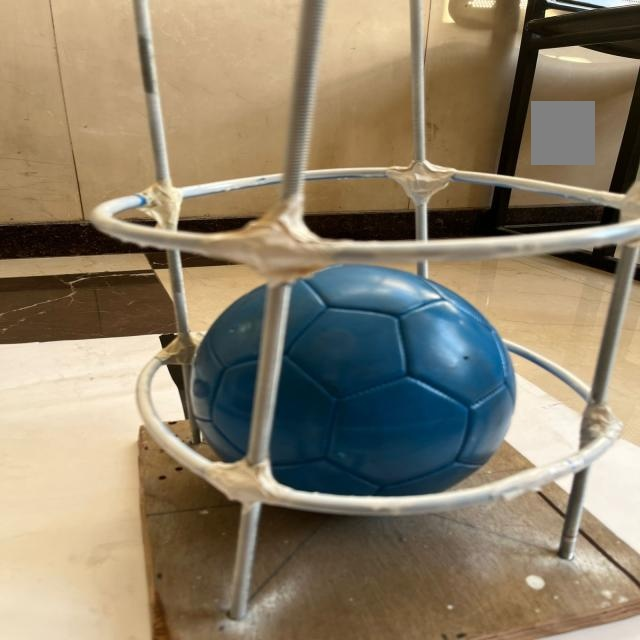blue_ball: (200, 262, 524, 515)
silo: (87, 0, 640, 640)
